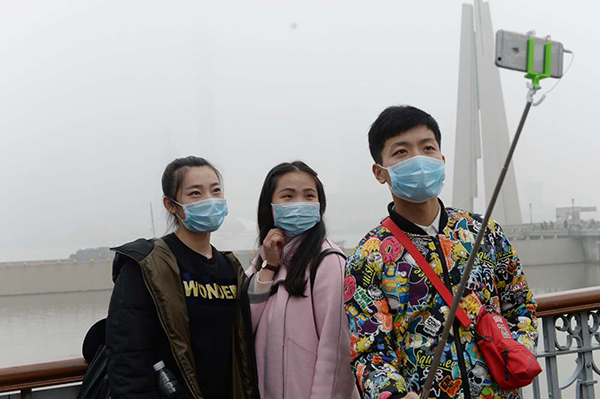face_mask: (388, 124, 444, 201), (179, 168, 228, 231), (272, 174, 320, 234)
